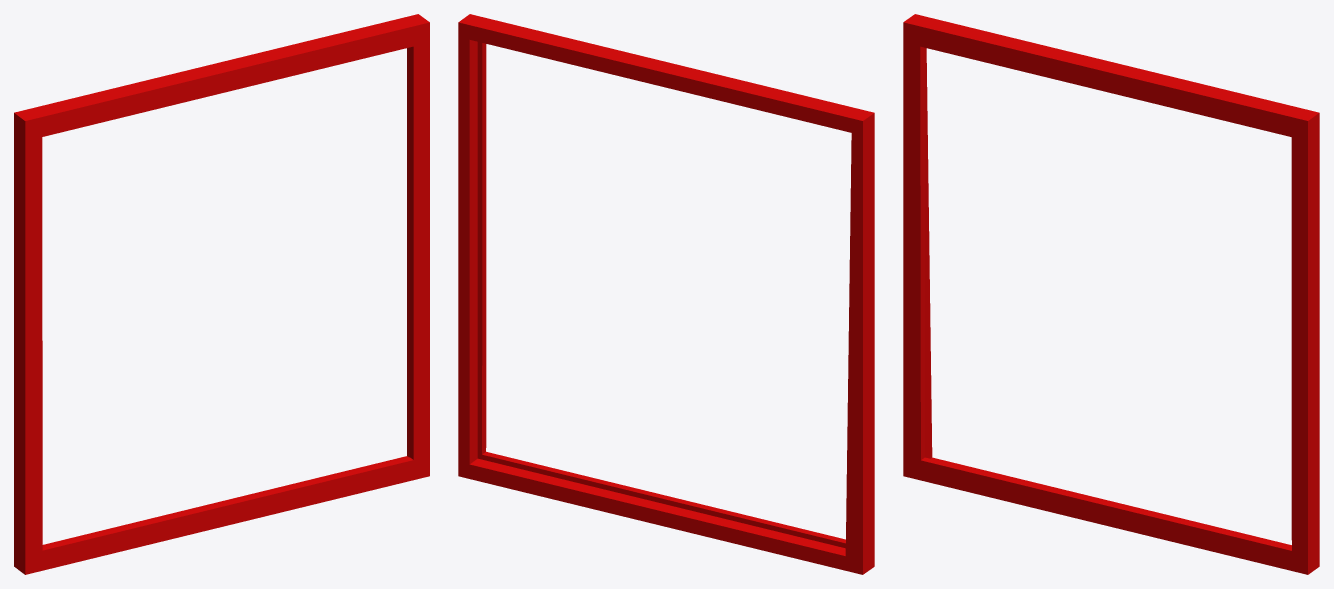
Rendered from Restaurant_01_Wall_Orn_03.fbx.
3 renders of one model, left to right at view 1: azimuth 30°, elevation 25°; view 2: azimuth 150°, elevation 25°; view 3: azimuth 330°, elevation 25°, orthographic.
Visible parts, largest first — view 1: Restaurant_01_Wall_Orn_03; view 2: Restaurant_01_Wall_Orn_03; view 3: Restaurant_01_Wall_Orn_03.
Boxes of the visible parts, <box> form: Restaurant_01_Wall_Orn_03: <box>14,14,429,574</box>; Restaurant_01_Wall_Orn_03: <box>458,14,874,574</box>; Restaurant_01_Wall_Orn_03: <box>903,14,1319,574</box>.
Size of the model in its own units: 222 by 238 by 10.93.
